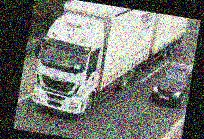truck: (26, 0, 188, 133)
